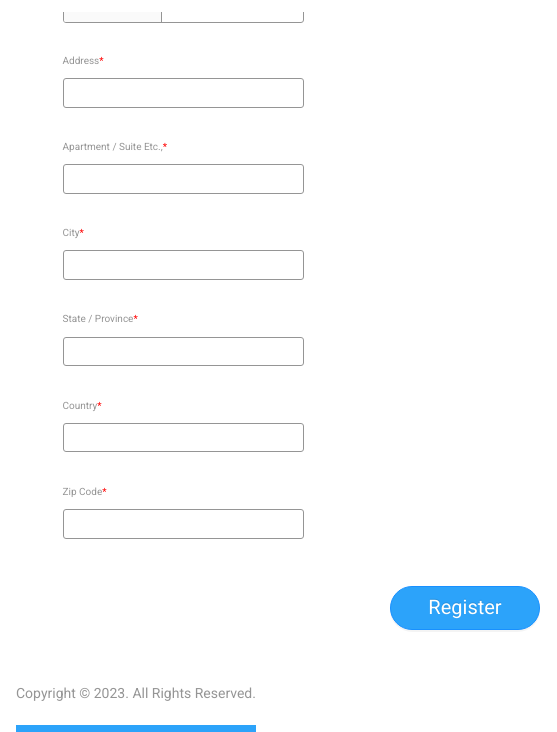
Test case: Testing Sign up for unit testing › testing for error message for mandatory Phone number
The width and height of the screenshot is (557, 732).
(page scrolled)
Click the button with test id "jest-signup-btn" at (465, 608), box [390, 586, 540, 630]
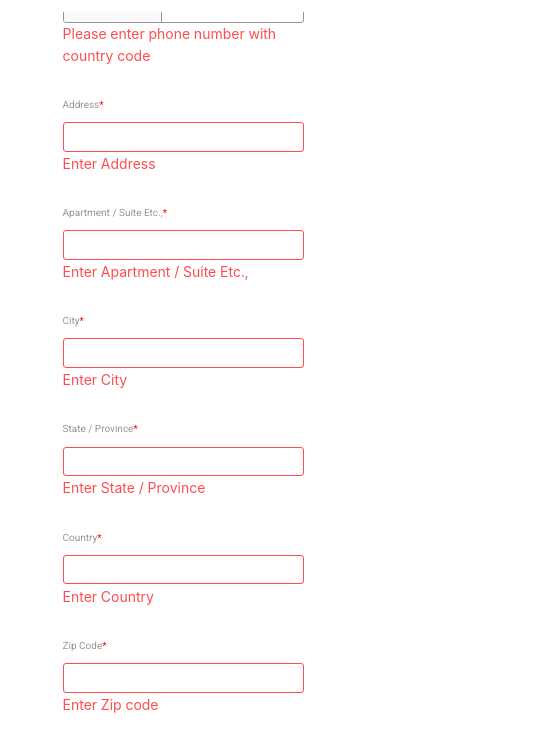
Expected: the text "Please enter phone number with country code" is shown, [62, 22, 304, 66]
